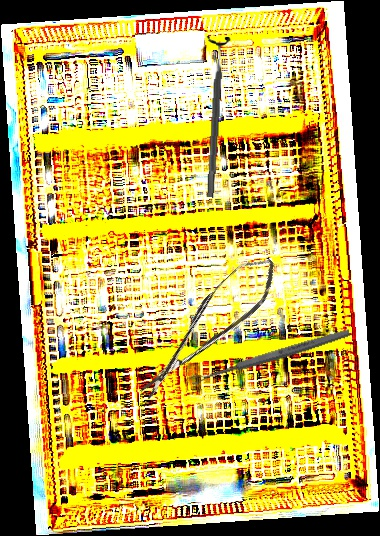Fixation Ring: (197, 35, 232, 199)
Micro Scissor: (125, 247, 289, 407)
Surgical Spoon: (189, 327, 352, 386)
